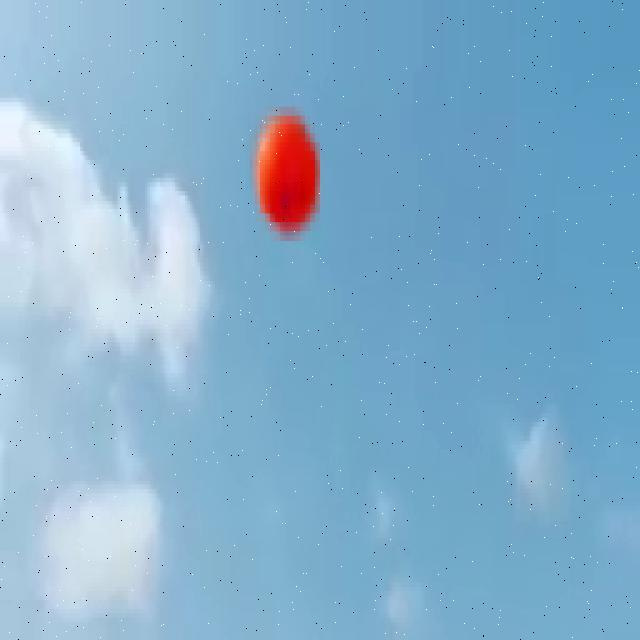red: (255, 106, 318, 238)
